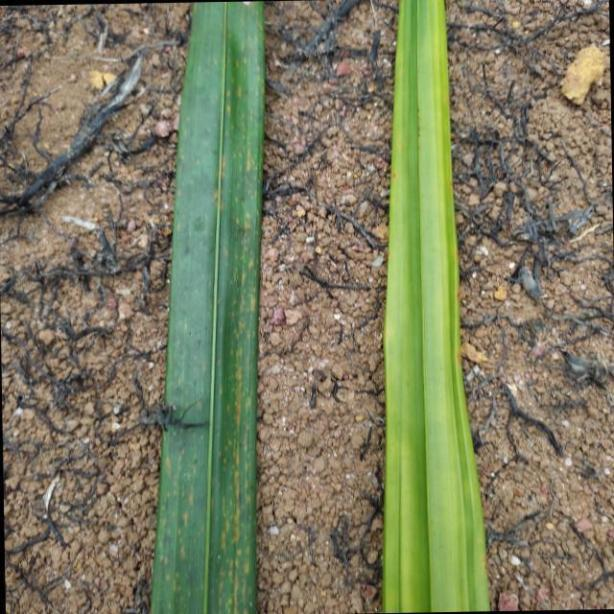nitrogen: (144, 0, 267, 614), (379, 0, 491, 614)
